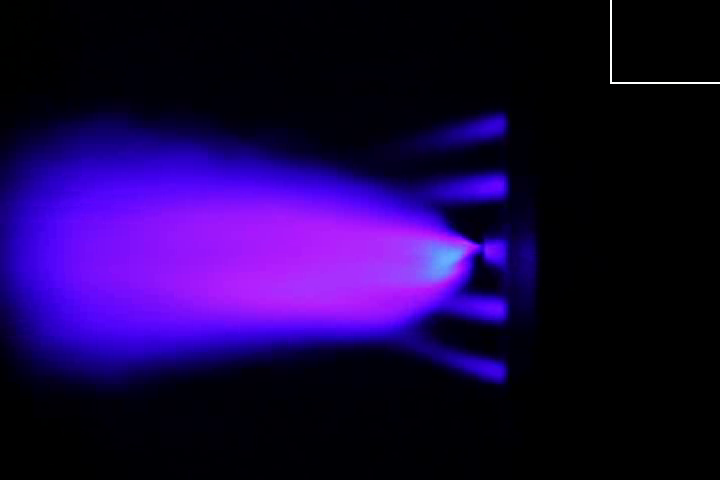burner cap: (481, 234, 510, 272)
pilot flame: (394, 336, 509, 383), (412, 115, 511, 144), (425, 172, 507, 202), (443, 292, 508, 326)
stable: (88, 193, 479, 323)
